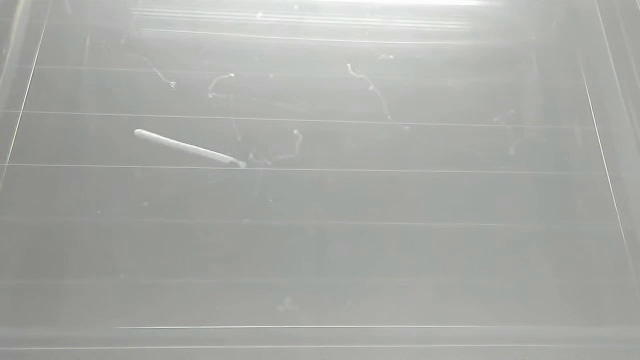alpha: (132, 124, 250, 171)
